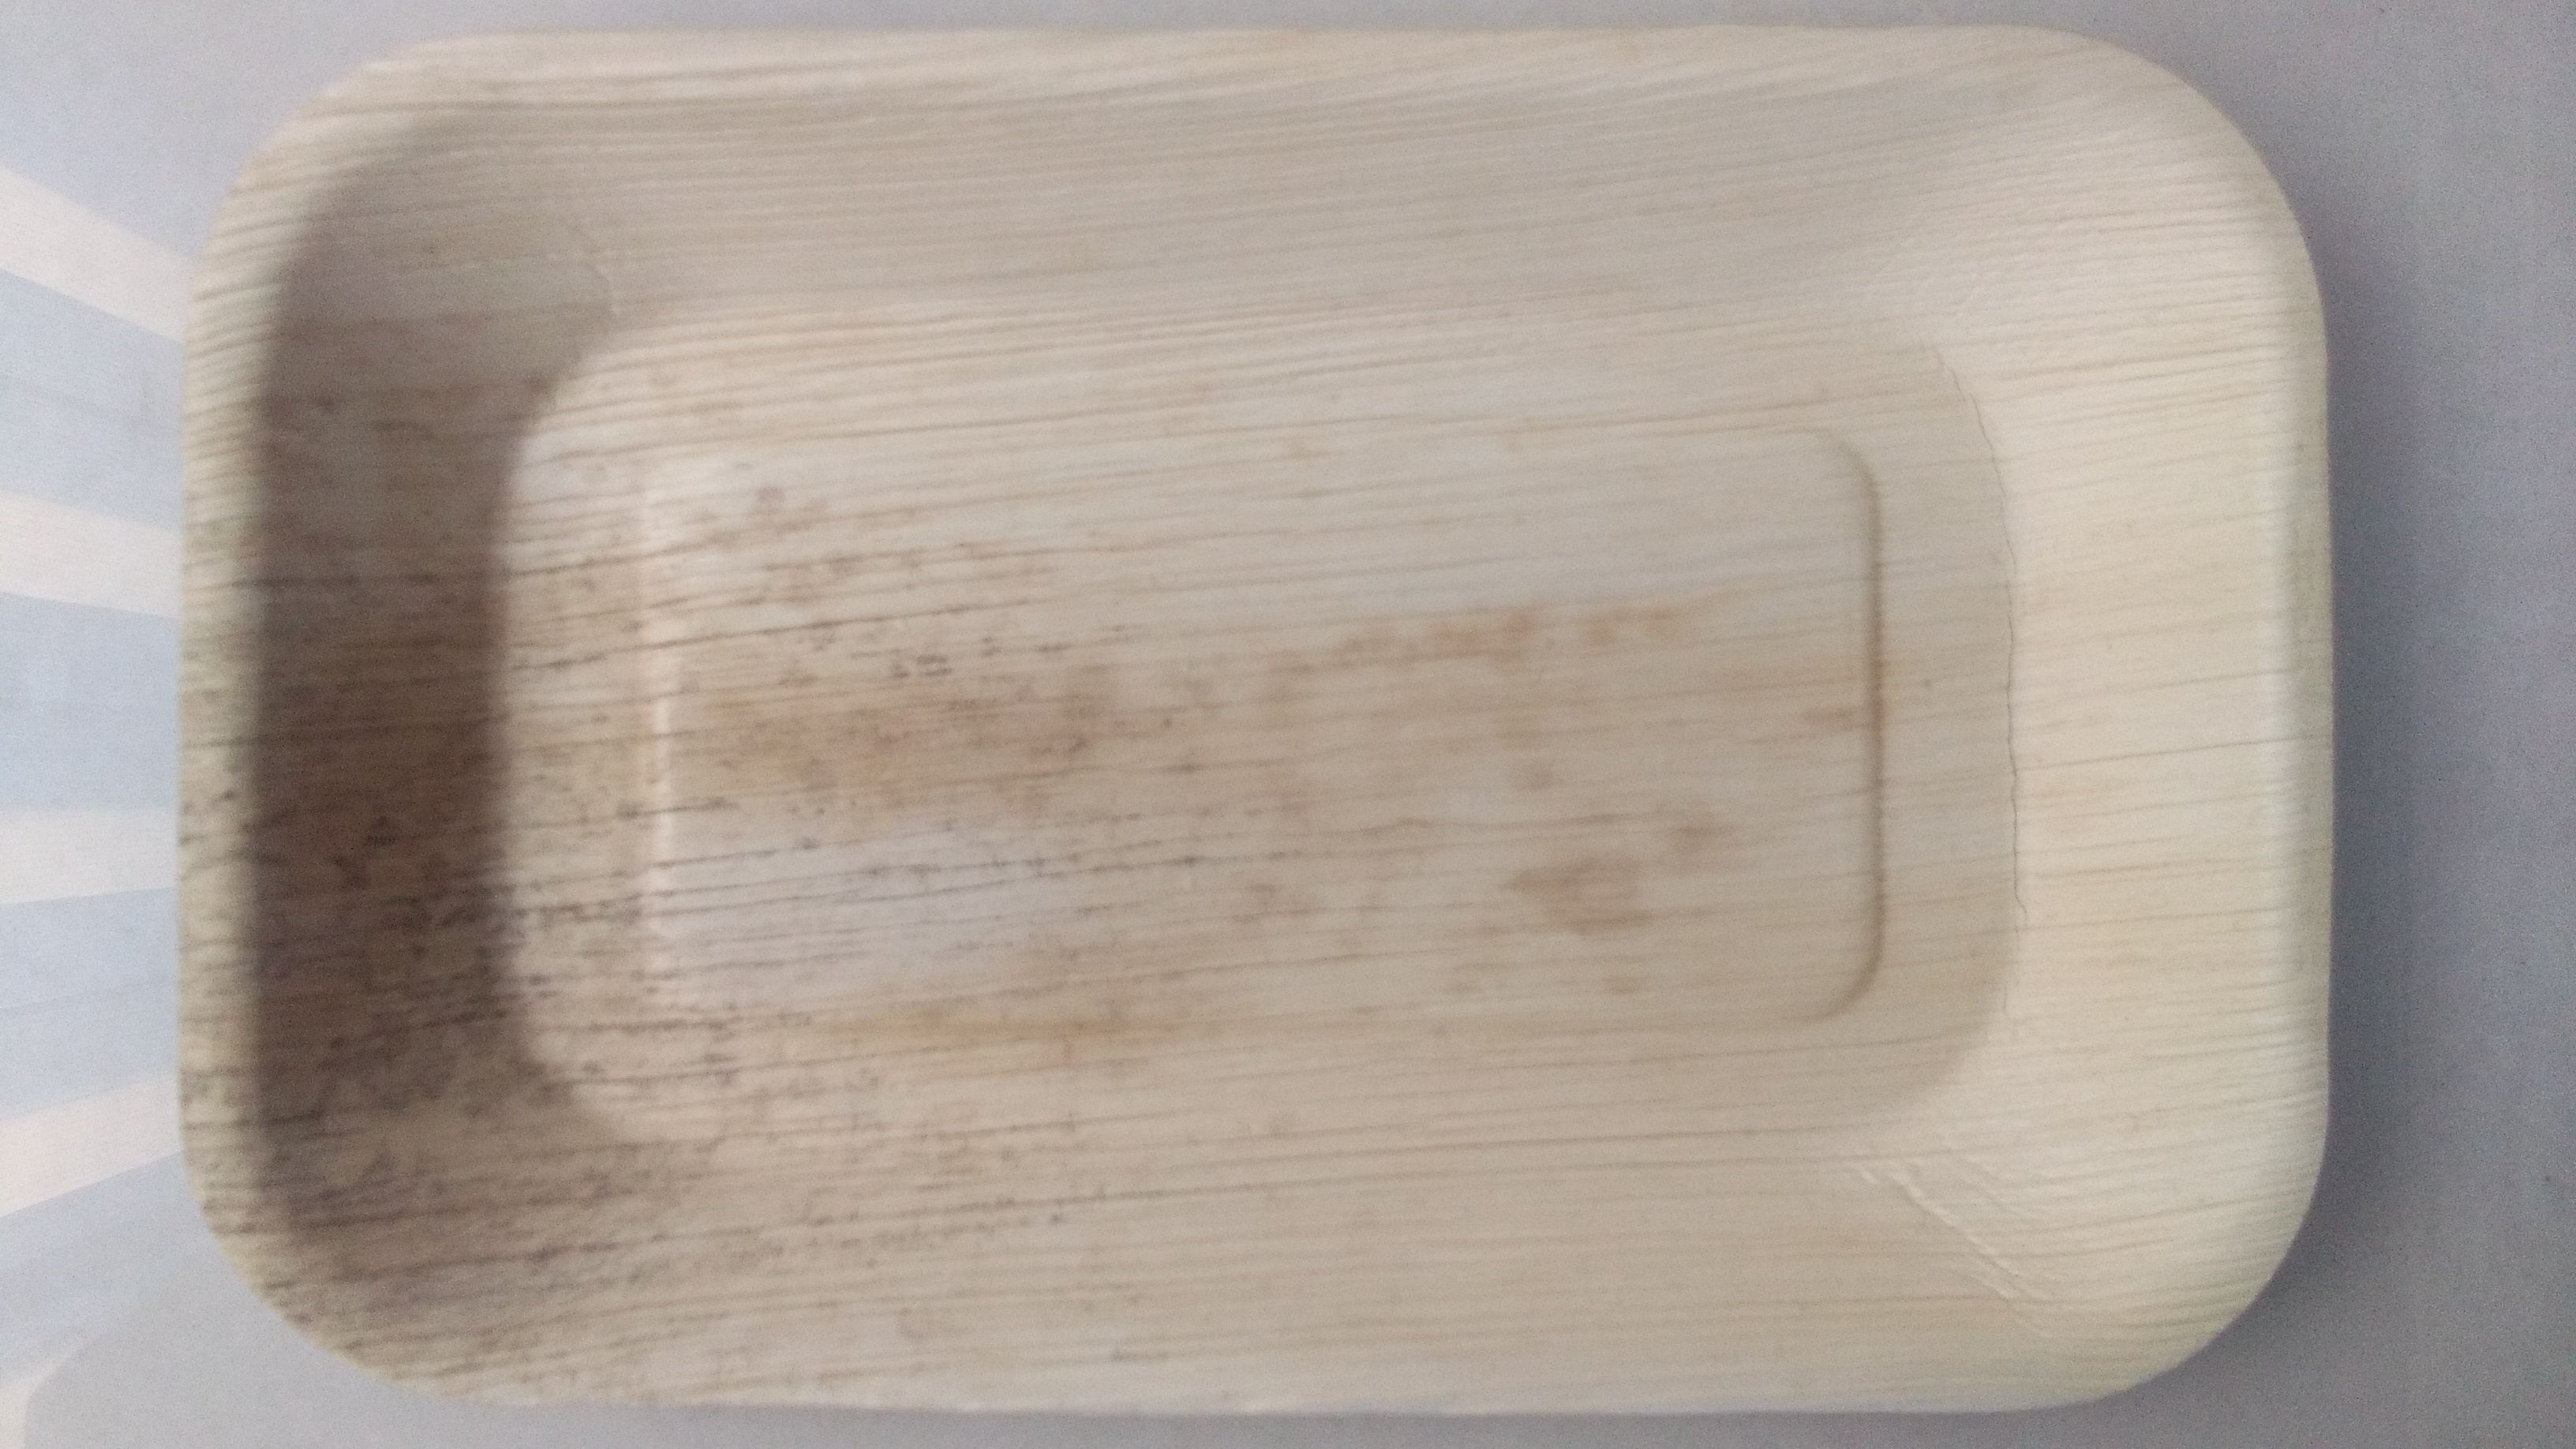areca plate: (207, 27, 2334, 1382)
